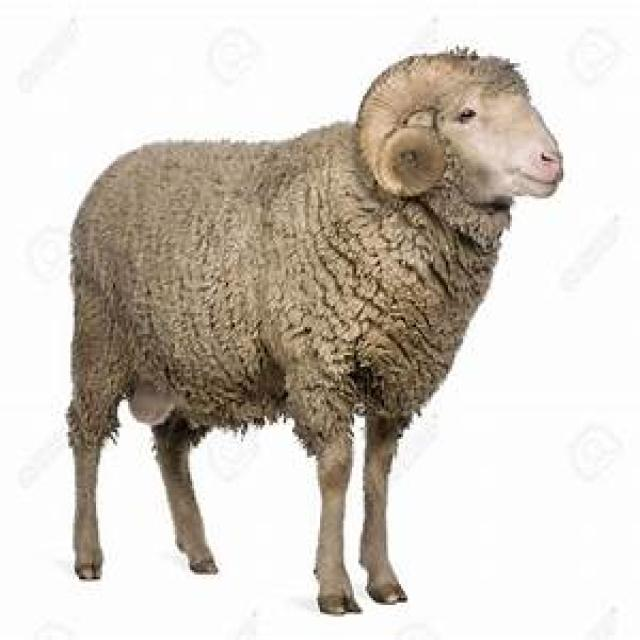sheep: (62, 45, 563, 614)
